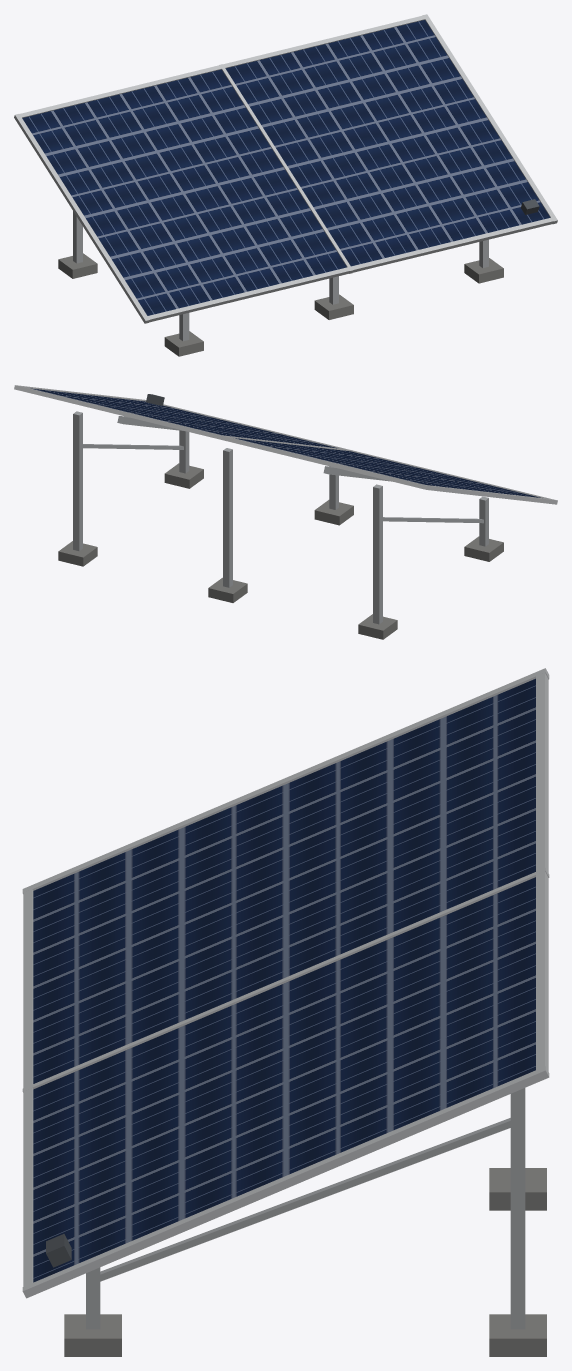
The model's file is solar_table.glb.
3 views of the same model, one above another, from view 1: azimuth 30°, elevation 25°; view 2: azimuth 150°, elevation 25°; view 3: azimuth 270°, elevation 25° (orthographic). The views are drawn at different scales.
Visible parts, largest first — view 1: panels, frame; view 2: frame, panels; view 3: panels, frame.
Part boxes in pixels (left/top/right/bottom): panels: left=22, top=20, right=550, bottom=315; frame: left=14, top=14, right=557, bottom=356; frame: left=14, top=385, right=557, bottom=639; panels: left=31, top=388, right=540, bottom=497; panels: left=33, top=678, right=535, bottom=1282; frame: left=22, top=668, right=549, bottom=1356.
Bounding box in the file's own units: 6.6 × 2.52 × 3.65.
Materials: 5 (1 with a texture image).
